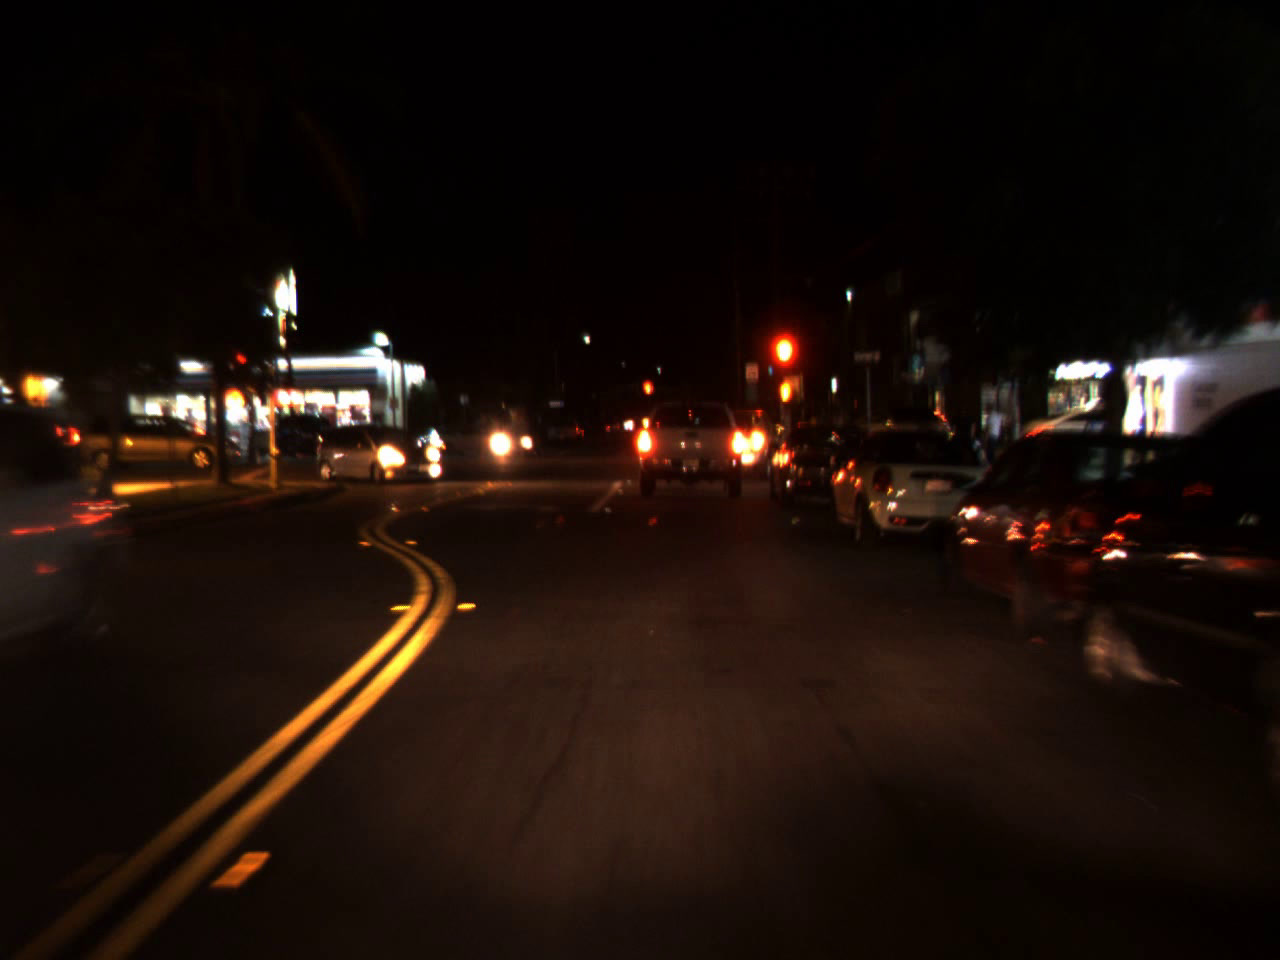stop: (769, 331, 797, 393), (232, 349, 248, 381), (641, 379, 654, 411)
